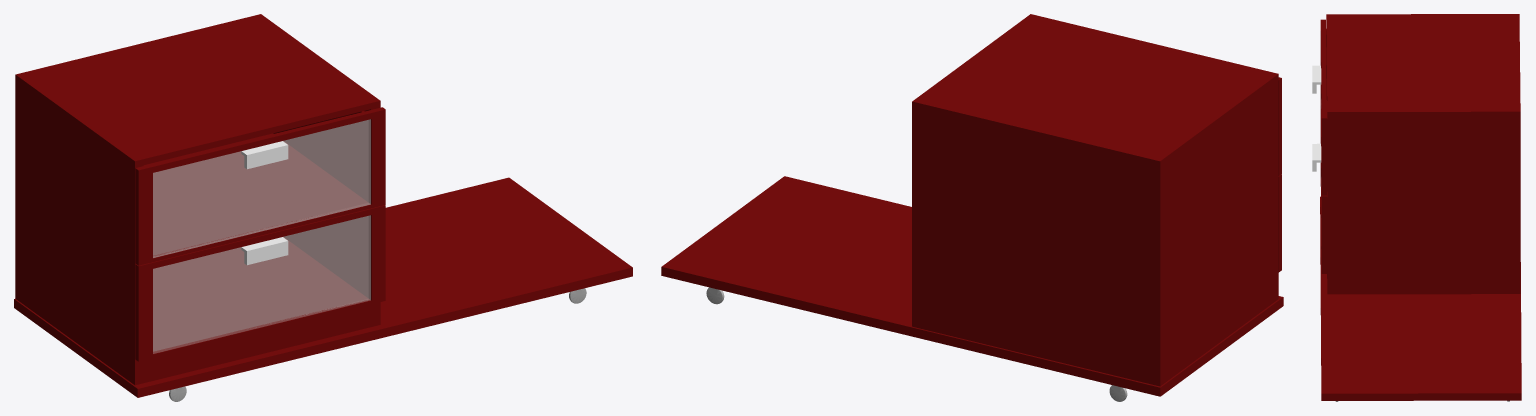
File: IKEA-Hopen_Bedside_Table-3D.obj
3 renders of one model, left to right at view 1: azimuth 30°, elevation 25°; view 2: azimuth 150°, elevation 25°; view 3: azimuth 270°, elevation 25°, orthographic. The views are drawn at different scales.
Parts seen in each view (by area): view 1: Layer_0; view 2: Layer_0; view 3: Layer_0.
Boxes of the visible parts, x1=… form: Layer_0: x1=14, y1=14, x2=632, y2=401; Layer_0: x1=661, y1=14, x2=1283, y2=401; Layer_0: x1=1312, y1=14, x2=1521, y2=401.
Bounding box in the file's own units: 1001 × 494 × 450.
